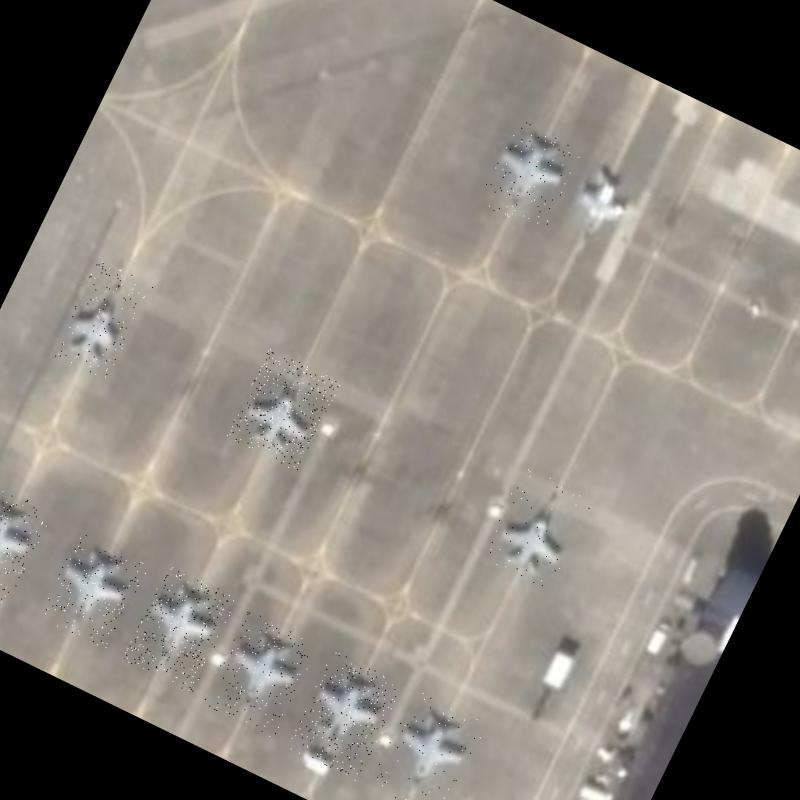A16: (286, 650, 404, 782), (201, 609, 319, 738), (480, 465, 598, 593), (121, 564, 238, 693), (225, 347, 341, 472), (37, 532, 149, 652), (368, 689, 487, 800), (50, 258, 154, 382), (476, 118, 583, 234), (0, 478, 53, 607)
